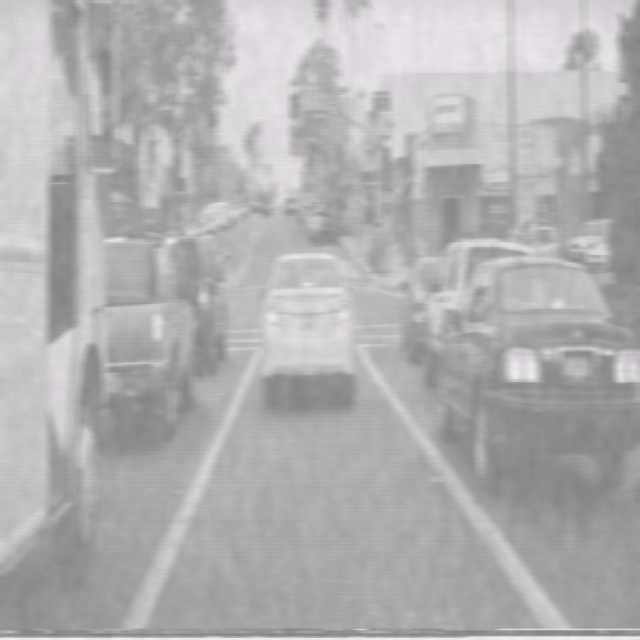laneEnds: (330, 89, 346, 125)
